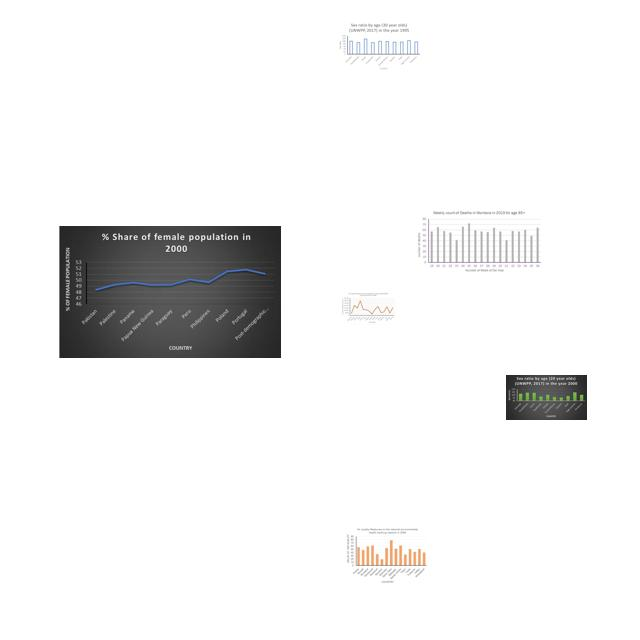Graph: (59, 226, 281, 358), (416, 210, 544, 273), (345, 526, 428, 585), (337, 22, 421, 71), (506, 375, 587, 420), (341, 292, 396, 325)
